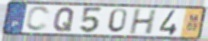0: (105, 8, 128, 34)
4: (158, 9, 179, 36)
5: (79, 6, 104, 35)
C: (24, 5, 52, 32)
H: (128, 8, 159, 36)
Q: (52, 7, 77, 33)
